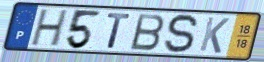5: (64, 8, 104, 50)
B: (129, 12, 167, 52)
H: (28, 8, 71, 48)
K: (197, 16, 231, 56)
S: (162, 12, 200, 55)
T: (105, 12, 133, 50)
